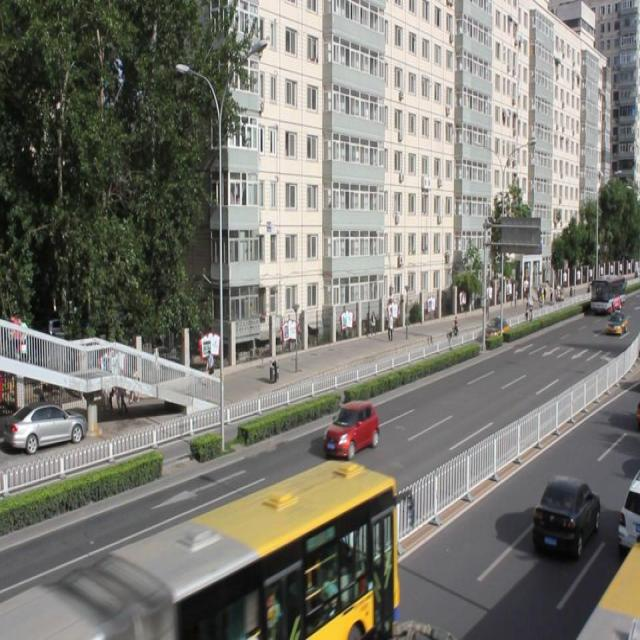car: (531, 474, 598, 556), (324, 399, 379, 456), (616, 468, 640, 544), (483, 316, 507, 342)
van: (1, 460, 394, 640), (569, 541, 639, 640)
